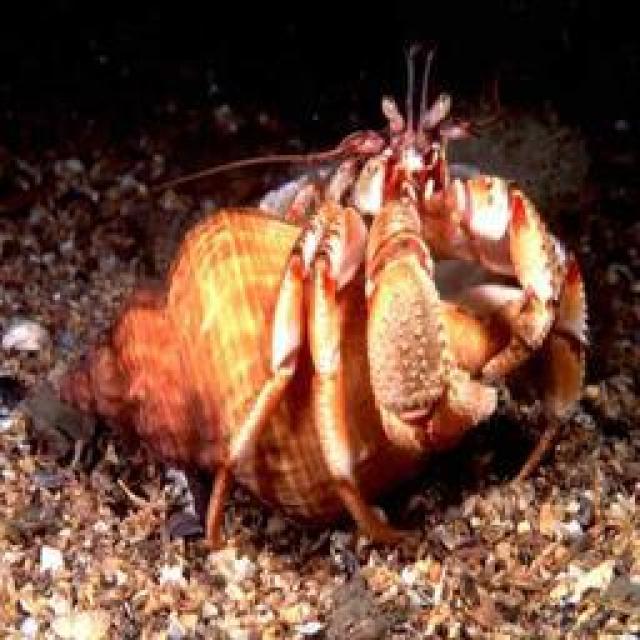fish: (58, 47, 588, 550)
